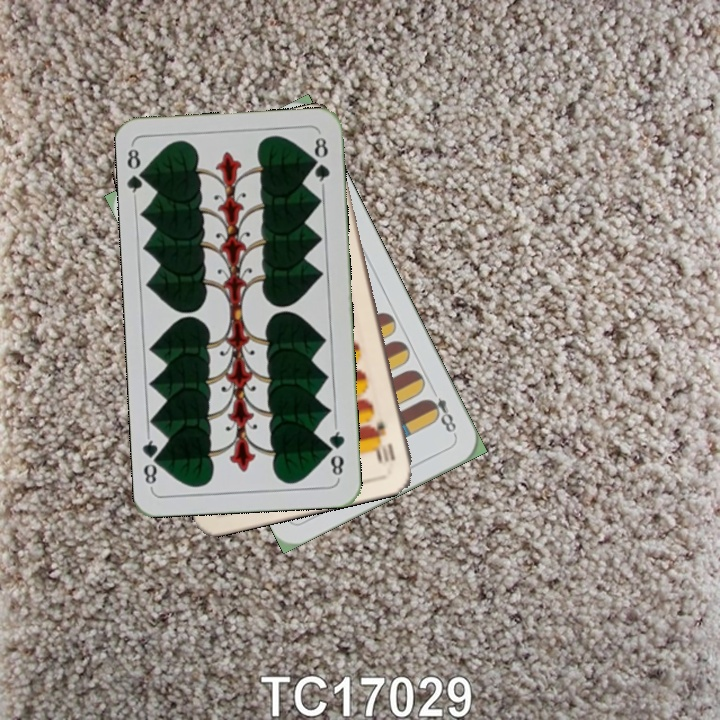E10: (370, 416, 398, 465)
E8: (422, 383, 459, 439)
G8: (123, 142, 151, 201), (324, 422, 348, 481)
